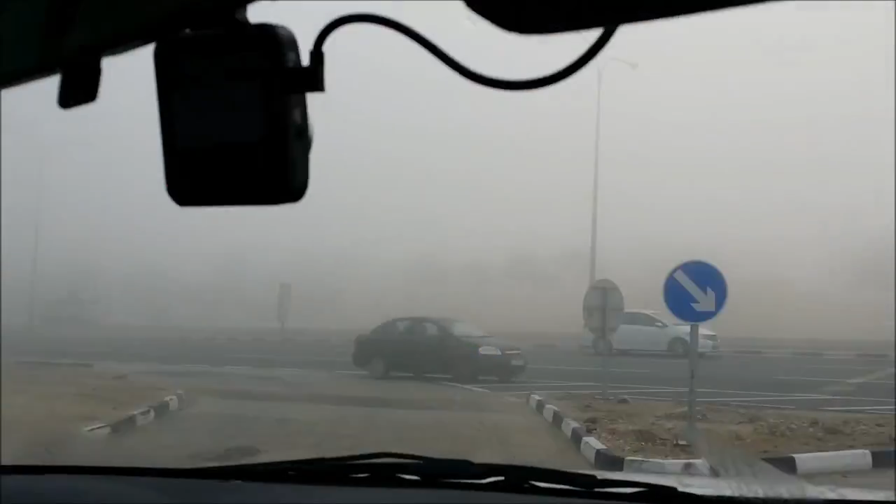car: (351, 315, 529, 386), (581, 305, 721, 360)
